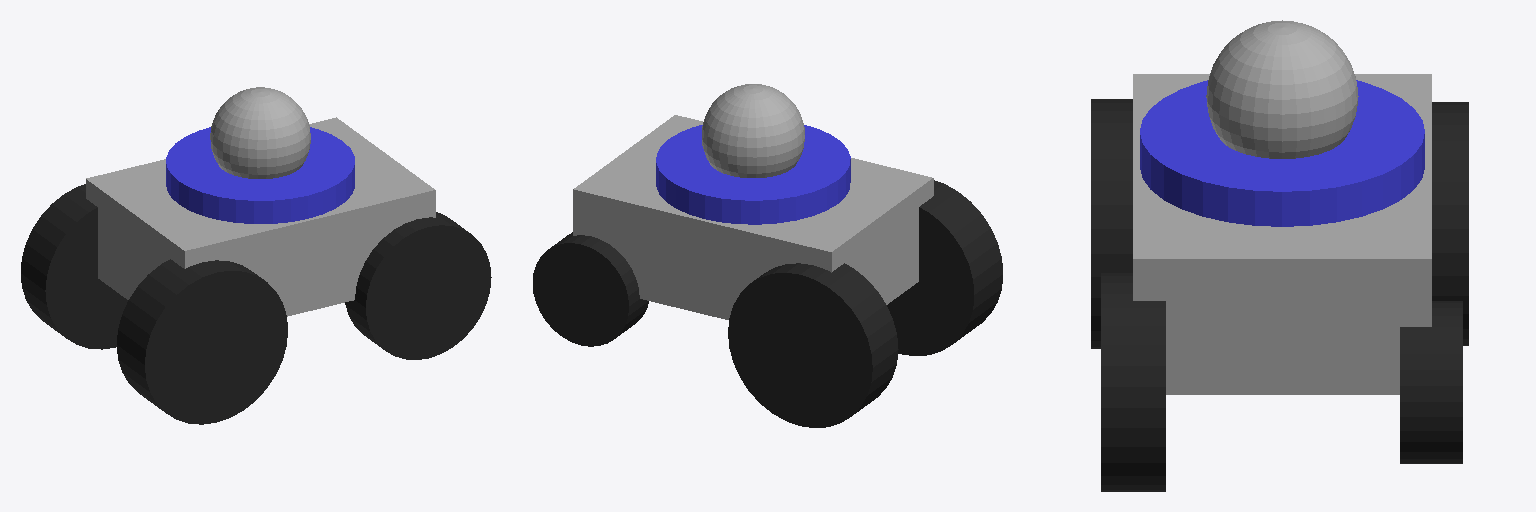
URDF robot description (evolved_robot):
<?xml version="1.0"?>
<robot name="evolved_robot">
  <material name="metal">
    <color rgba="0.7 0.7 0.7 1.0"/>
  </material>
  <material name="plastic">
    <color rgba="0.3 0.3 0.9 1.0"/>
  </material>
  <material name="rubber">
    <color rgba="0.1 0.1 0.1 1.0"/>
  </material>
  <material name="red">
    <color rgba="1.0 0.0 0.0 1.0"/>
  </material>
  <material name="wheel_material">
    <color rgba="0.2 0.2 0.2 1.0"/>
  </material>
  <link name="base_link">
    <visual>
      <geometry><box size="0.28200543666407374 0.19277832457260408 0.09720927208536406"/></geometry>
      <material name="metal"/>
    </visual>
    <collision>
      <geometry><box size="0.28200543666407374 0.19277832457260408 0.09720927208536406"/></geometry>
    </collision>
    <inertial>
      <mass value="5.0"/>
      <inertia ixx="0.03884427083698886" ixy="0" ixz="0" 
               iyy="0.0741472574062177" iyz="0" 
               izz="0.09724212394426264"/>
    </inertial>
  </link>
  <link name="link1">
    <visual>
      <geometry>
        <cylinder radius="0.05276887741149976" length="0.040581285150848495"/>
      </geometry>
      <material name="wheel_material"/>
    </visual>
    <collision>
      <geometry>
        <cylinder radius="0.05276887741149976" length="0.040581285150848495"/>
      </geometry>
    </collision>
    <inertial>
      <mass value="1.0"/>
      <inertia ixx="0.000833375331192012" ixy="0" ixz="0" 
               iyy="0.000833375331192012" iyz="0" 
               izz="0.0013922772116349445"/>
    </inertial>
  </link>
  <joint name="joint1" type="continuous">
    <parent link="base_link"/>
    <child link="link1"/>
    <origin xyz="0.12100271833203687 0.09638916228630204 -0.04860463604268203" rpy="1.5708 0 0"/>
    <axis xyz="0 0 1"/>
    <dynamics damping="0.7818402829444023" friction="0.1"/>
  </joint>
  <link name="link2">
    <visual>
      <geometry><cylinder radius="0.09218080847006109" length="0.05"/></geometry>
      <material name="plastic"/>
    </visual>
    <collision>
      <geometry><cylinder radius="0.09218080847006109" length="0.05"/></geometry>
    </collision>
    <inertial>
      <mass value="0.5"/>
      <inertia ixx="0.002332658695881855" ixy="0" ixz="0" 
               iyy="0.002332658695881855" iyz="0" 
               izz="0.004248650725097043"/>
    </inertial>
  </link>
  <joint name="joint2" type="revolute">
    <parent link="base_link"/>
    <child link="link2"/>
    <origin xyz="0 0 0.04860463604268203" rpy="0 0 0"/>
    <axis xyz="0.7056202527143156 -0.5413176906883189 -0.45724743488318337"/>
    <dynamics damping="0.8524918096531522" friction="0.1"/>
    <limit lower="-1.9273850581548186" upper="1.0937068410650614" effort="100" velocity="100"/>
  </joint>
  <link name="link3">
    <visual>
      <geometry>
        <cylinder radius="0.07063797436999575" length="0.042093354478068126"/>
      </geometry>
      <material name="wheel_material"/>
    </visual>
    <collision>
      <geometry>
        <cylinder radius="0.07063797436999575" length="0.042093354478068126"/>
      </geometry>
    </collision>
    <inertial>
      <mass value="1.0"/>
      <inertia ixx="0.001395085063375402" ixy="0" ixz="0" 
               iyy="0.001395085063375402" iyz="0" 
               izz="0.002494861711548088"/>
    </inertial>
  </link>
  <joint name="joint3" type="continuous">
    <parent link="base_link"/>
    <child link="link3"/>
    <origin xyz="0.12100271833203687 -0.09638916228630204 -0.04860463604268203" rpy="1.5708 0 0"/>
    <axis xyz="0 0 1"/>
    <dynamics damping="0.69190020288255" friction="0.1"/>
  </joint>
  <link name="link4">
    <visual>
      <geometry>
        <cylinder radius="0.07908787434849454" length="0.048557610339922924"/>
      </geometry>
      <material name="wheel_material"/>
    </visual>
    <collision>
      <geometry>
        <cylinder radius="0.07908787434849454" length="0.048557610339922924"/>
      </geometry>
    </collision>
    <inertial>
      <mass value="1.0"/>
      <inertia ixx="0.0017602097607344643" ixy="0" ixz="0" 
               iyy="0.0017602097607344643" iyz="0" 
               izz="0.0031274459344816305"/>
    </inertial>
  </link>
  <joint name="joint4" type="continuous">
    <parent link="base_link"/>
    <child link="link4"/>
    <origin xyz="-0.12100271833203687 0.09638916228630204 -0.04860463604268203" rpy="1.5708 0 0"/>
    <axis xyz="0 0 1"/>
    <dynamics damping="0.6849628307493921" friction="0.1"/>
  </joint>
  <link name="link5">
    <visual>
      <geometry><sphere radius="0.04915514420561673"/></geometry>
      <material name="metal"/>
    </visual>
    <collision>
      <geometry><sphere radius="0.04915514420561673"/></geometry>
    </collision>
    <inertial>
      <mass value="0.5"/>
      <inertia ixx="0.0009664912807499903" ixy="0" ixz="0" 
               iyy="0.0009664912807499903" iyz="0" 
               izz="0.0009664912807499903"/>
    </inertial>
  </link>
  <joint name="joint5" type="prismatic">
    <parent link="base_link"/>
    <child link="link5"/>
    <origin xyz="0 0 0.09860463604268203" rpy="0 0 0"/>
    <axis xyz="-0.6862888858142306 0.6373425381039485 -0.35043124051813507"/>
    <dynamics damping="0.7028373833923687" friction="0.1"/>
    <limit lower="-0.3644232264120007" upper="0.9926335345686322" effort="100" velocity="100"/>
  </joint>
  <link name="link6">
    <visual>
      <geometry>
        <cylinder radius="0.0805953329017795" length="0.054859577616518704"/>
      </geometry>
      <material name="wheel_material"/>
    </visual>
    <collision>
      <geometry>
        <cylinder radius="0.0805953329017795" length="0.054859577616518704"/>
      </geometry>
    </collision>
    <inertial>
      <mass value="1.0"/>
      <inertia ixx="0.0018746996927424021" ixy="0" ixz="0" 
               iyy="0.0018746996927424021" iyz="0" 
               izz="0.003247803842774331"/>
    </inertial>
  </link>
  <joint name="joint6" type="continuous">
    <parent link="base_link"/>
    <child link="link6"/>
    <origin xyz="-0.12100271833203687 -0.09638916228630204 -0.04860463604268203" rpy="1.5708 0 0"/>
    <axis xyz="0 0 1"/>
    <dynamics damping="0.9270004068807279" friction="0.1"/>
  </joint>
</robot>

--- What the picture shows (computed from the rendered views, not written in the file) ---
Views: 3 orthographic renders of the robot side by side, from view 1: azimuth 30°, elevation 25°; view 2: azimuth 150°, elevation 25°; view 3: azimuth 270°, elevation 25°.
Robot: evolved_robot — 7 links, 6 joints (1 revolute, 4 continuous, 1 prismatic); root link base_link; default pose: all joints at 0.
Links seen in each view (by area): view 1: base_link, link6, link3, link2, link4, link5; view 2: base_link, link4, link6, link2, link1, link5; view 3: base_link, link2, link5, link3, link1, link6, link4.
Boxes of the visible links, left/top/right/bottom form: base_link: left=86, top=117, right=435, bottom=316; link6: left=117, top=259, right=287, bottom=424; link3: left=345, top=212, right=491, bottom=359; link2: left=166, top=127, right=354, bottom=223; link4: left=21, top=184, right=127, bottom=349; link5: left=210, top=87, right=310, bottom=178; base_link: left=573, top=115, right=933, bottom=319; link4: left=728, top=263, right=898, bottom=427; link6: left=887, top=180, right=1002, bottom=355; link2: left=656, top=125, right=850, bottom=224; link1: left=533, top=232, right=648, bottom=346; link5: left=702, top=84, right=804, bottom=177; base_link: left=1133, top=74, right=1431, bottom=394; link2: left=1140, top=80, right=1424, bottom=226; link5: left=1206, top=20, right=1358, bottom=158; link3: left=1101, top=273, right=1165, bottom=491; link1: left=1400, top=301, right=1462, bottom=463; link6: left=1091, top=99, right=1132, bottom=348; link4: left=1432, top=102, right=1468, bottom=345.
Size in the robot's own frame: 0.3932 by 0.2445 by 0.277 metres.
Geometry: primitives only (box / cylinder / sphere), no mesh files.